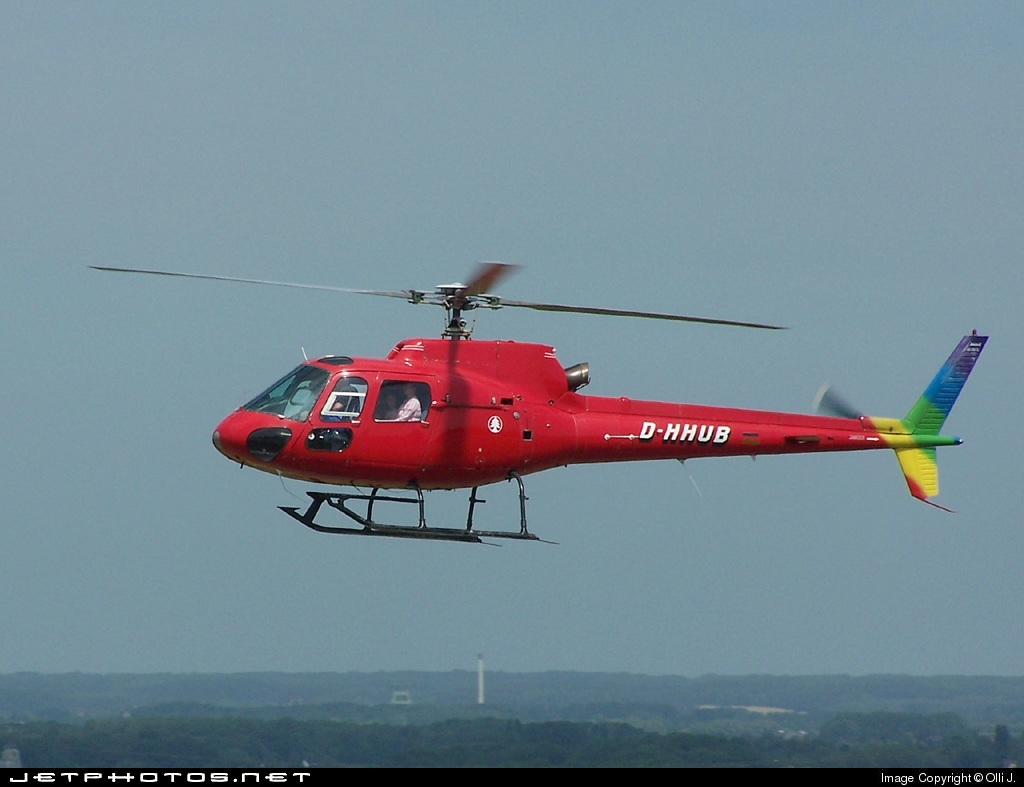number: (638, 419, 730, 445)
